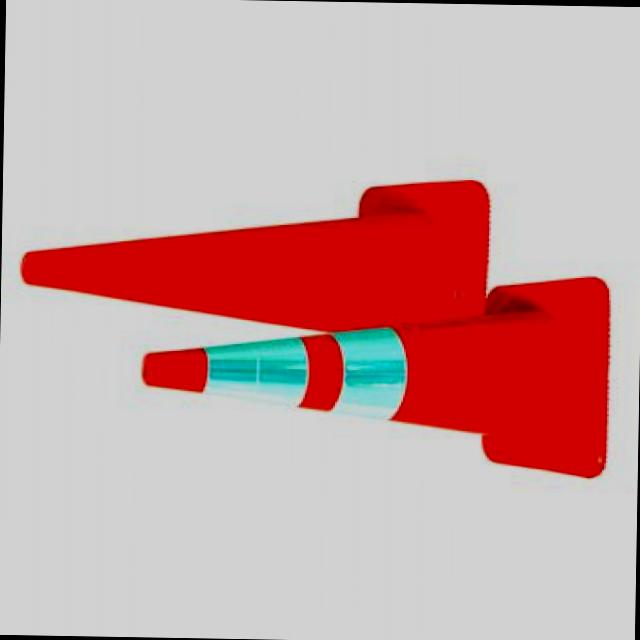cone: (121, 269, 626, 478)
